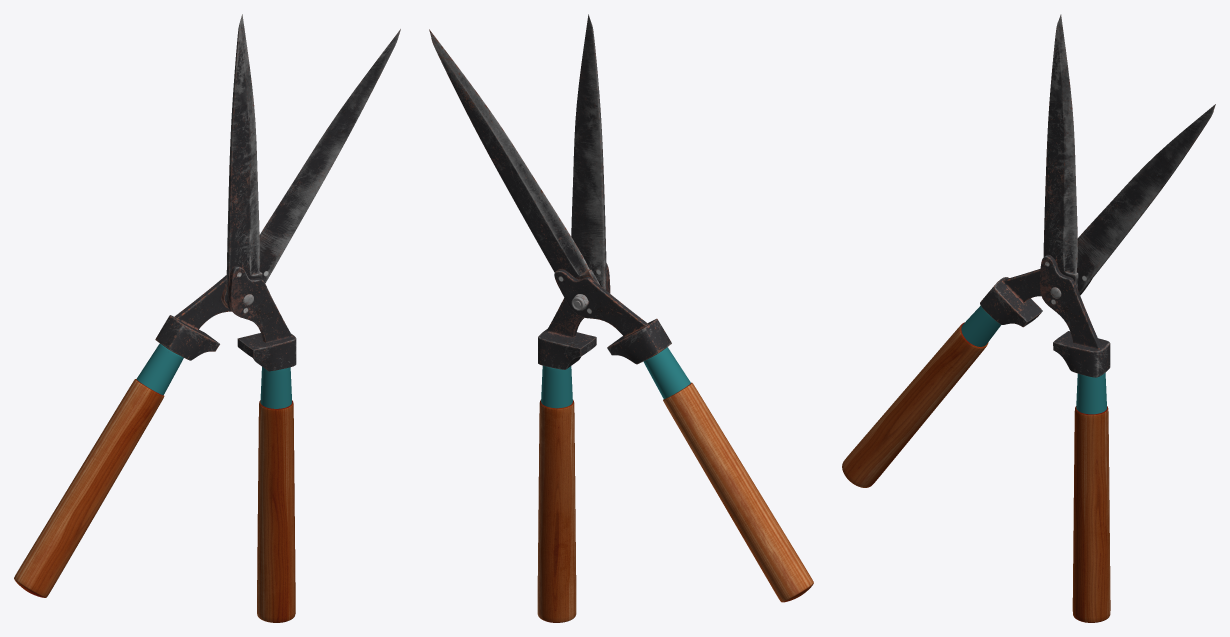
The model's file is shears_0019c537f588.glb.
3 renders of one model, left to right at view 1: azimuth 30°, elevation 25°; view 2: azimuth 150°, elevation 25°; view 3: azimuth 330°, elevation 25°, orthographic. The views are drawn at different scales.
Parts seen in each view (by area): view 1: blade_L, blade_R; view 2: blade_R, blade_L; view 3: blade_L, blade_R.
Part boxes in pixels (bbox=[...]): blade_L: bbox=[226, 14, 296, 622]; blade_R: bbox=[14, 29, 400, 597]; blade_R: bbox=[429, 29, 813, 602]; blade_L: bbox=[537, 14, 610, 622]; blade_L: bbox=[1039, 14, 1110, 622]; blade_R: bbox=[842, 104, 1215, 487].
Bounding box in the file's own units: 37.66 × 57.59 × 3.84.
Materials: 2 (2 with a texture image).
